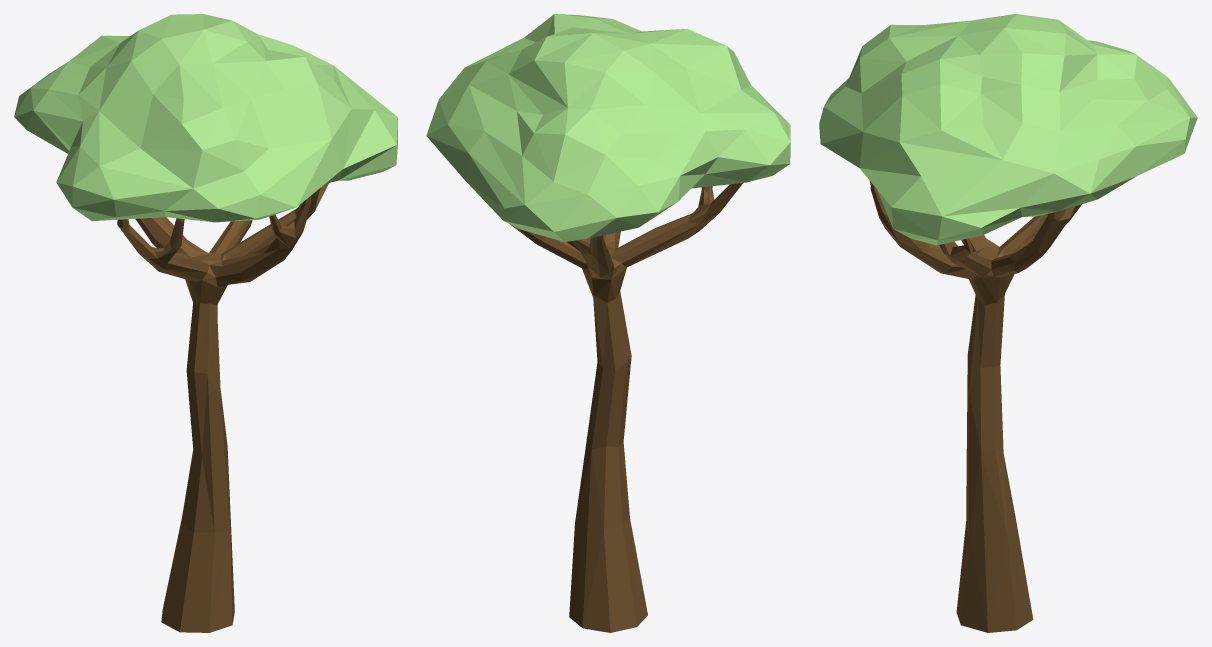
Rendered from Tree.fbx.
3 views of the same model, side by side, from view 1: azimuth 30°, elevation 25°; view 2: azimuth 150°, elevation 25°; view 3: azimuth 270°, elevation 25° (orthographic). The views are drawn at different scales.
Visible parts, largest first — view 1: Tree_LOD0; view 2: Tree_LOD0; view 3: Tree_LOD0.
Boxes of the visible parts, x1,y1,x2,y2 form: Tree_LOD0: (14,14,397,632); Tree_LOD0: (426,14,790,632); Tree_LOD0: (819,14,1197,632).
Size of what is drawn, in the model's own units: 334 by 568 by 328.
